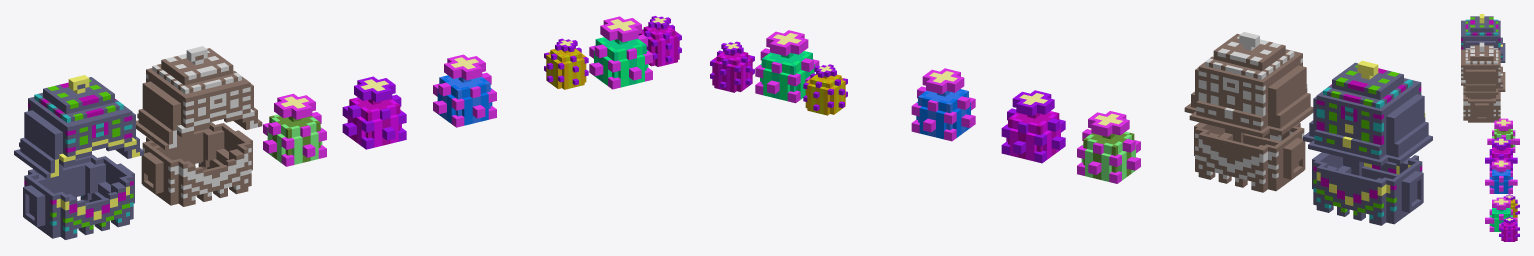
Rendered from 65- ranchero.fbx.
The picture shows the model from 3 angles, left to right: view 1: azimuth 30°, elevation 25°; view 2: azimuth 150°, elevation 25°; view 3: azimuth 270°, elevation 25°; orthographic projection. The views are drawn at different scales.
Visible parts, largest first — view 1: 231, 235, 232, 234, 233, 238.2, 235.1, 238, 238.1, 237.1, 236.2, 234.1 (+6 smaller); view 2: 231, 235, 232, 234, 233, 238.2, 235.1, 238, 238.1, 236.2, 237.1, 234.1 (+6 smaller); view 3: 231, 235, 232, 238.2, 233, 236.2, 235.1, 238, 237.1, 238.1, 236.1, Saleev_L_231 (+7 smaller).
Boxes of the visible parts, x1=… form: 231: x1=136, y1=46, x2=262, y2=149; 235: x1=14, y1=77, x2=143, y2=178; 232: x1=142, y1=122, x2=251, y2=206; 234: x1=24, y1=154, x2=133, y2=239; 233: x1=263, y1=93, x2=326, y2=166; 238.2: x1=544, y1=16, x2=681, y2=89; 235.1: x1=28, y1=75, x2=139, y2=177; 238: x1=548, y1=26, x2=679, y2=88; 238.1: x1=546, y1=26, x2=676, y2=89; 237.1: x1=342, y1=76, x2=406, y2=149; 236.2: x1=433, y1=54, x2=496, y2=127; 234.1: x1=24, y1=180, x2=133, y2=233; 231: x1=1184, y1=32, x2=1313, y2=137; 235: x1=1303, y1=62, x2=1432, y2=166; 232: x1=1195, y1=122, x2=1304, y2=192; 234: x1=1313, y1=153, x2=1422, y2=225; 233: x1=1077, y1=111, x2=1140, y2=183; 238.2: x1=710, y1=30, x2=847, y2=110; 235.1: x1=1314, y1=60, x2=1425, y2=155; 238: x1=712, y1=51, x2=843, y2=114; 238.1: x1=715, y1=52, x2=845, y2=115; 236.2: x1=911, y1=68, x2=975, y2=141; 237.1: x1=1001, y1=90, x2=1065, y2=163; 234.1: x1=1313, y1=162, x2=1422, y2=219; 231: x1=1461, y1=42, x2=1505, y2=94; 235: x1=1461, y1=16, x2=1505, y2=62; 232: x1=1463, y1=85, x2=1500, y2=122; 238.2: x1=1485, y1=194, x2=1519, y2=240; 233: x1=1487, y1=118, x2=1519, y2=152; 236.2: x1=1485, y1=159, x2=1517, y2=193; 235.1: x1=1461, y1=14, x2=1502, y2=57; 238: x1=1489, y1=199, x2=1517, y2=241; 237.1: x1=1485, y1=137, x2=1517, y2=170; 238.1: x1=1492, y1=200, x2=1517, y2=241; 236.1: x1=1489, y1=169, x2=1512, y2=193; Saleev_L_231: x1=1475, y1=103, x2=1488, y2=120.
Size of the model in its own units: 1666 by 350 by 252.
Materials: 24 (24 with a texture image).
